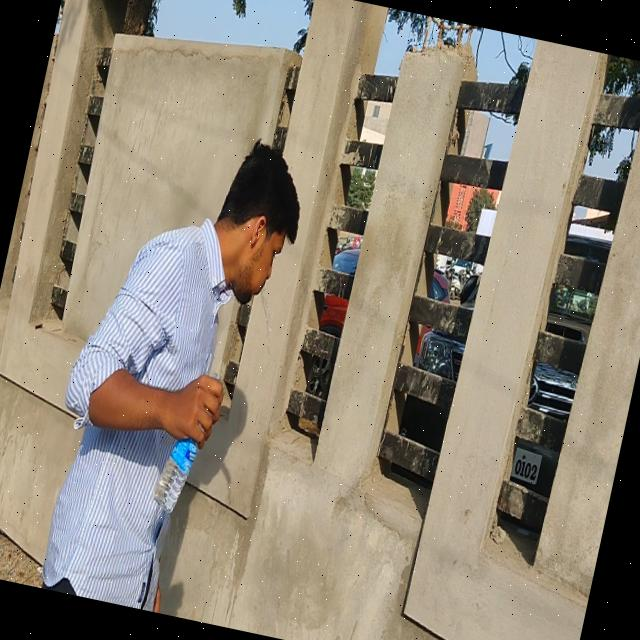spit: (223, 150, 297, 376)
